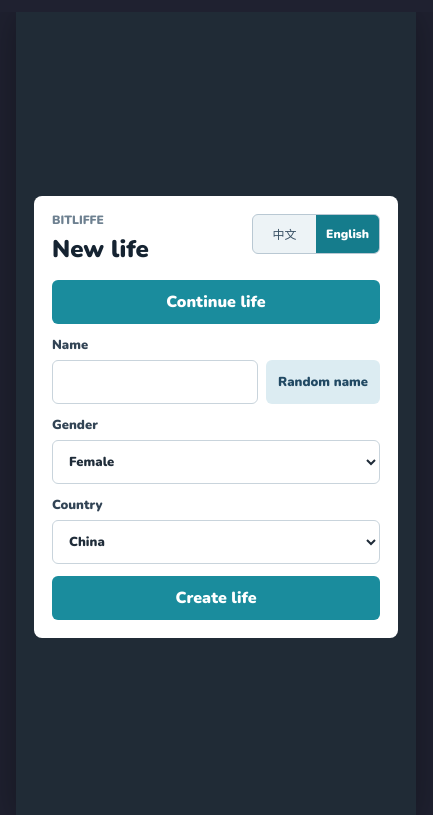
Test: App › shows a continue option for saved lives before entering the game
Click the button "Continue life" at (216, 302), box [52,280,380,324]
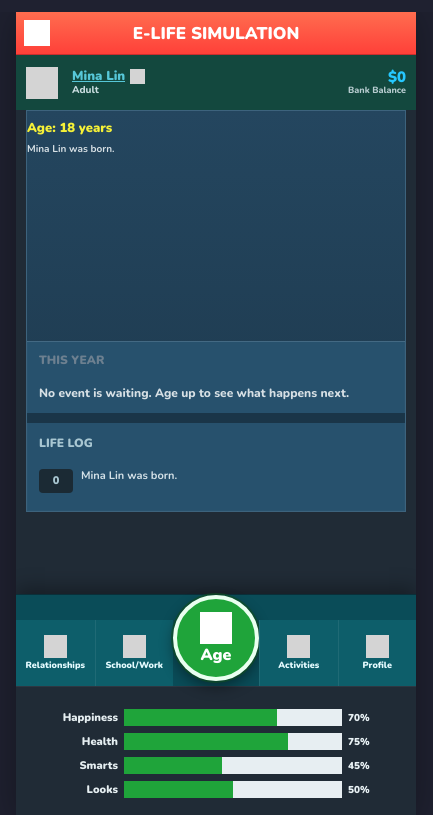
Result: the text "Mina Lin" is shown at [72,69,125,84]
